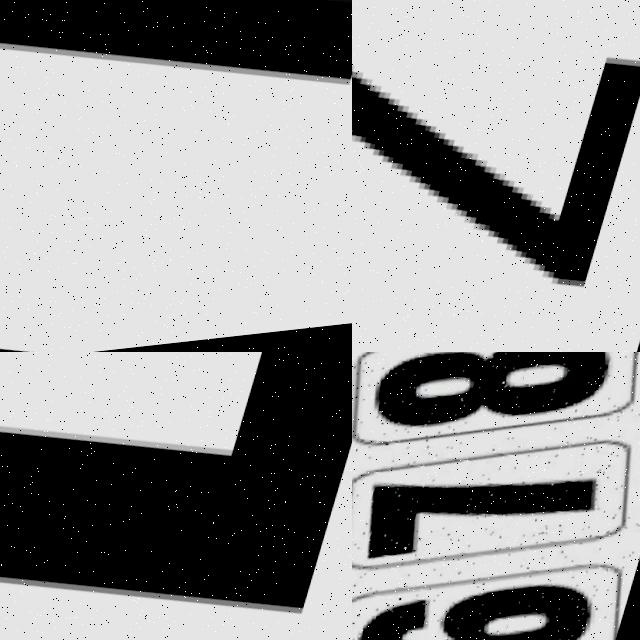1: (0, 0, 352, 177)
2: (352, 0, 640, 351)
6: (352, 539, 621, 640)
7: (352, 418, 628, 617)
8: (358, 352, 637, 491)
L: (0, 352, 352, 640)
